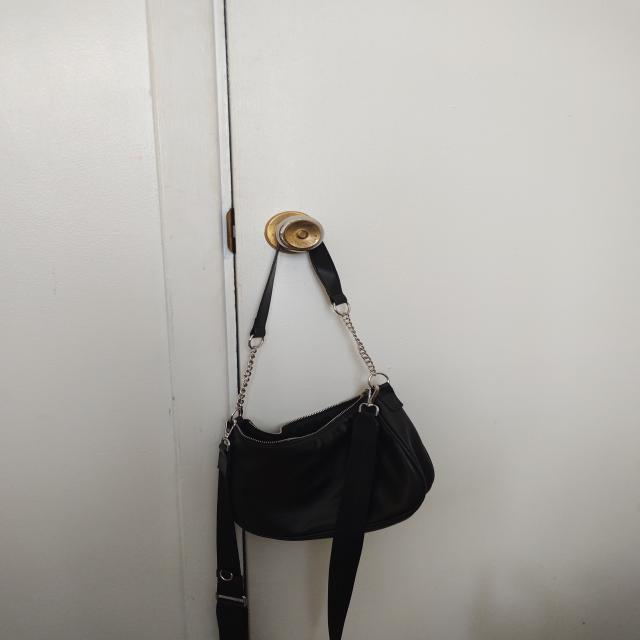door-knob: (264, 211, 324, 254)
